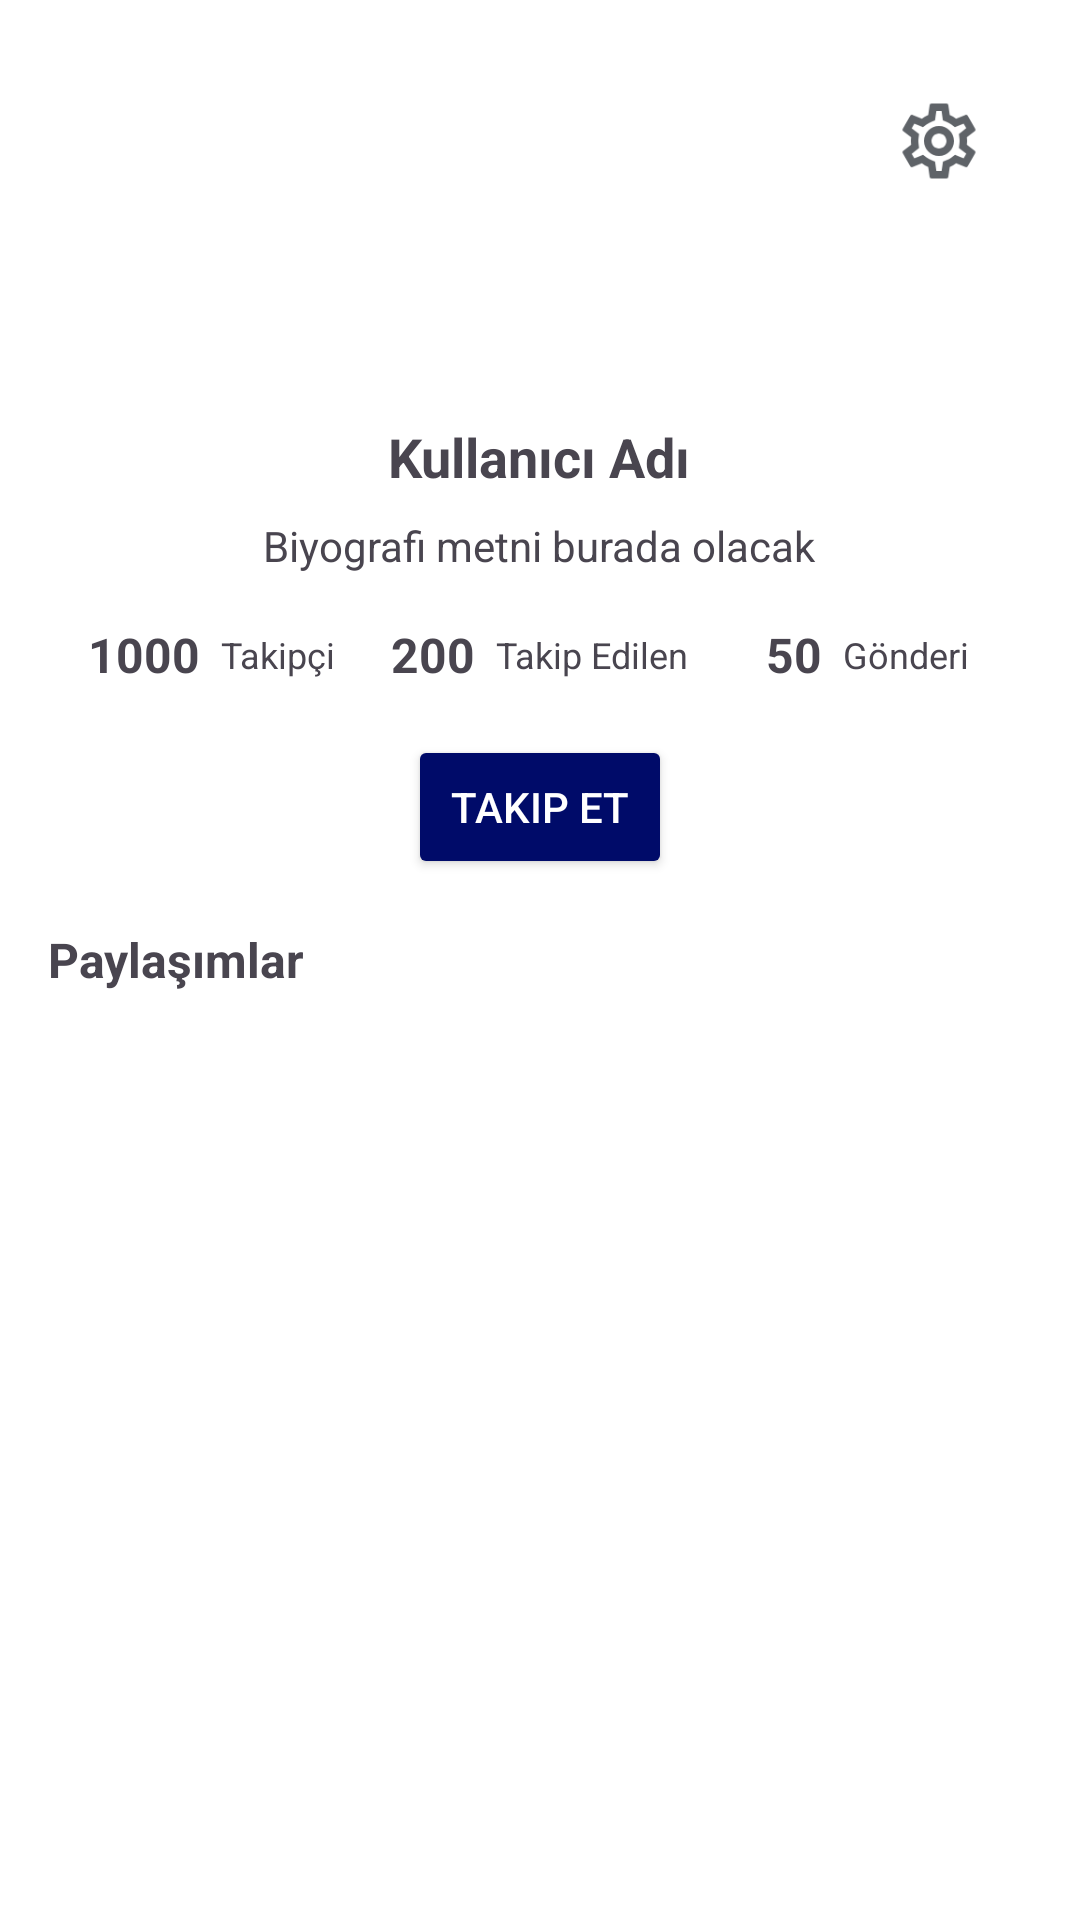

Icon bounding boxes for this 1080w x 1920h phone screenshot, format [x1, y1, x2, y2]:
Ayarlar: [902, 103, 976, 179]
